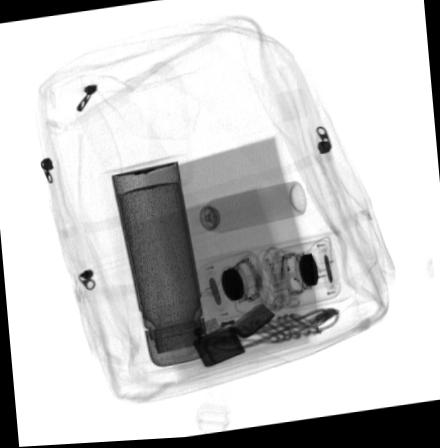Lighter: (192, 306, 275, 369)
Sprayer: (179, 184, 306, 237)
